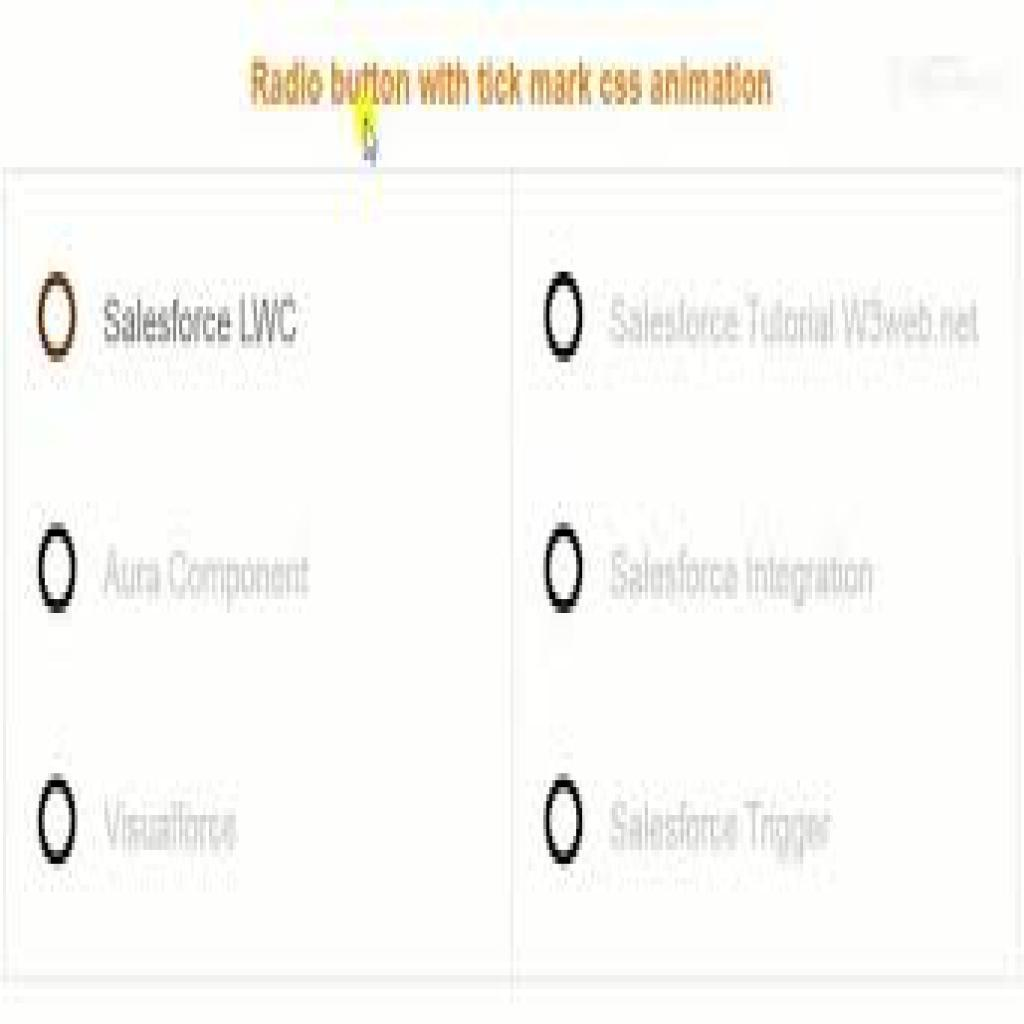label: (252, 55, 778, 113), (607, 283, 985, 350), (607, 541, 886, 610), (607, 794, 836, 862), (103, 538, 315, 609), (101, 291, 304, 346), (101, 791, 245, 857)
radio: (541, 772, 588, 873), (36, 519, 81, 621), (542, 267, 587, 367), (36, 268, 82, 365), (35, 773, 80, 872), (541, 522, 586, 618)
